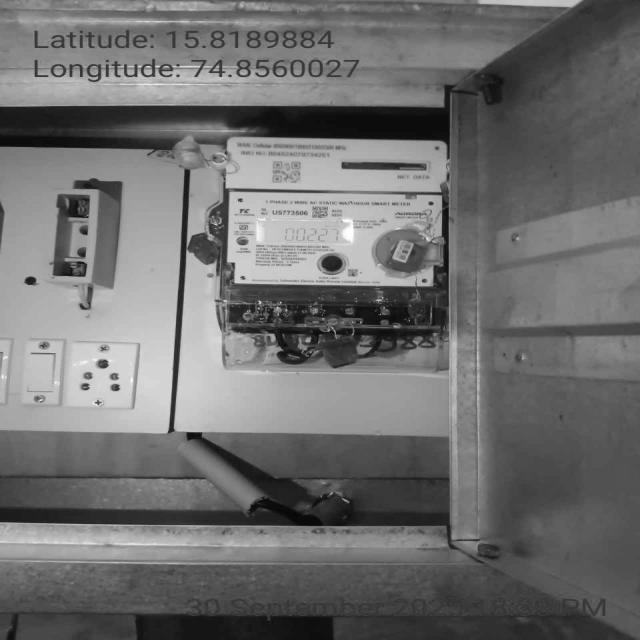meter: (229, 135, 450, 286)
